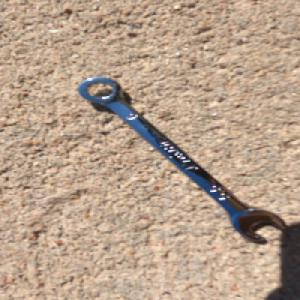Wrench: (75, 74, 292, 247)
